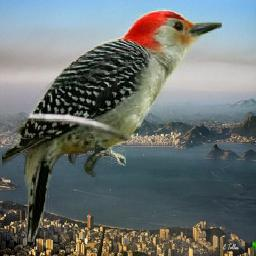Woodpecker: (2, 8, 222, 242)
